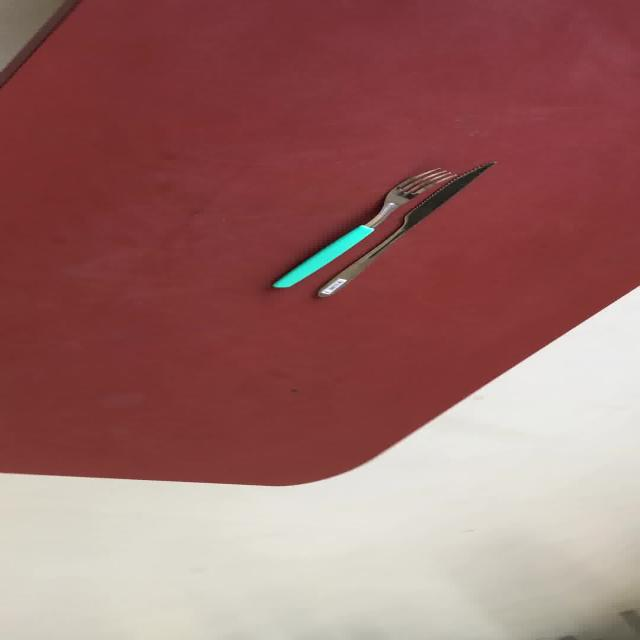fork: (270, 166, 456, 288)
knife fork: (314, 159, 497, 298), (269, 166, 456, 288)
